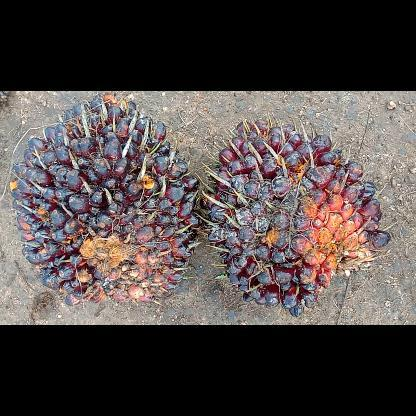Kurang masak: (10, 90, 206, 308), (200, 117, 392, 320)
